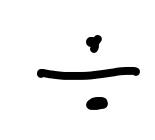div: (33, 34, 138, 112)
